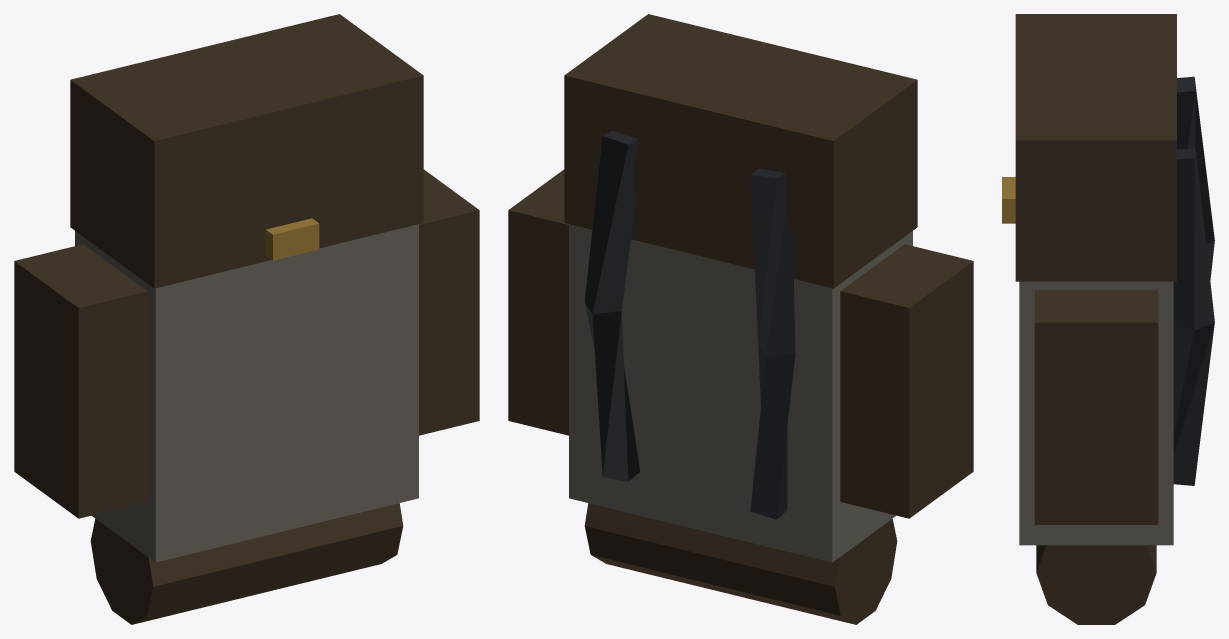
File: backpack.glb
3 renders of one model, left to right at view 1: azimuth 30°, elevation 25°; view 2: azimuth 150°, elevation 25°; view 3: azimuth 270°, elevation 25°, orthographic. The views are drawn at different scales.
Visible parts, largest first — view 1: m; view 2: m; view 3: m.
Boxes of the visible parts, x1=… form: m: x1=14, y1=14, x2=479, y2=624; m: x1=508, y1=14, x2=973, y2=624; m: x1=1002, y1=14, x2=1214, y2=624.
Size of the model in its own units: 0.2635 by 0.32 by 0.1261.
